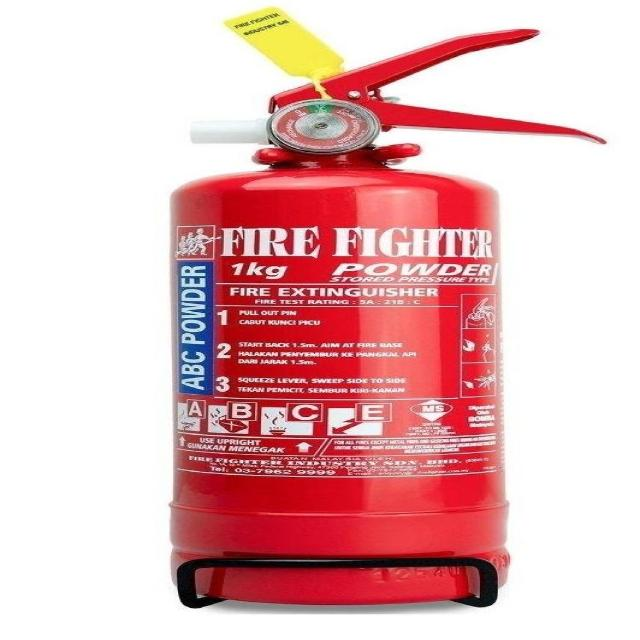fire_extinguisher: (155, 4, 614, 614)
